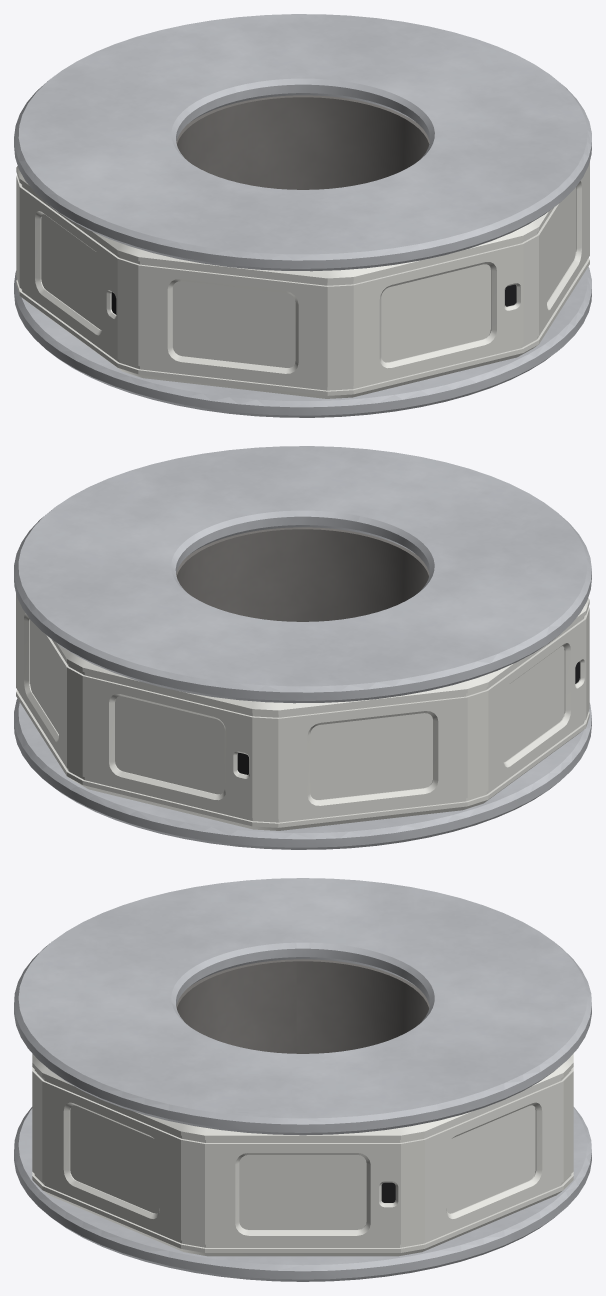
Rendered from ax_cmd_11_avionics_ring.glb.
3 renders of one model, top to bottom at view 1: azimuth 30°, elevation 25°; view 2: azimuth 150°, elevation 25°; view 3: azimuth 270°, elevation 25°, orthographic.
Parts seen in each view (by area): view 1: interface_rings, avionics_band, inner_wall; view 2: interface_rings, avionics_band, inner_wall; view 3: interface_rings, avionics_band, inner_wall.
Part boxes in pixels (box(x1,y1,x2,y2)): interface_rings: box(14, 14, 591, 417); avionics_band: box(16, 162, 589, 398); inner_wall: box(176, 95, 429, 189); interface_rings: box(14, 446, 591, 849); avionics_band: box(16, 594, 589, 830); inner_wall: box(176, 527, 429, 621); interface_rings: box(14, 878, 591, 1281); avionics_band: box(32, 1054, 573, 1256); inner_wall: box(176, 959, 429, 1053).
Bounding box in the file's own units: 2.5 × 0.78 × 2.5.
4 materials, 2 textured.
